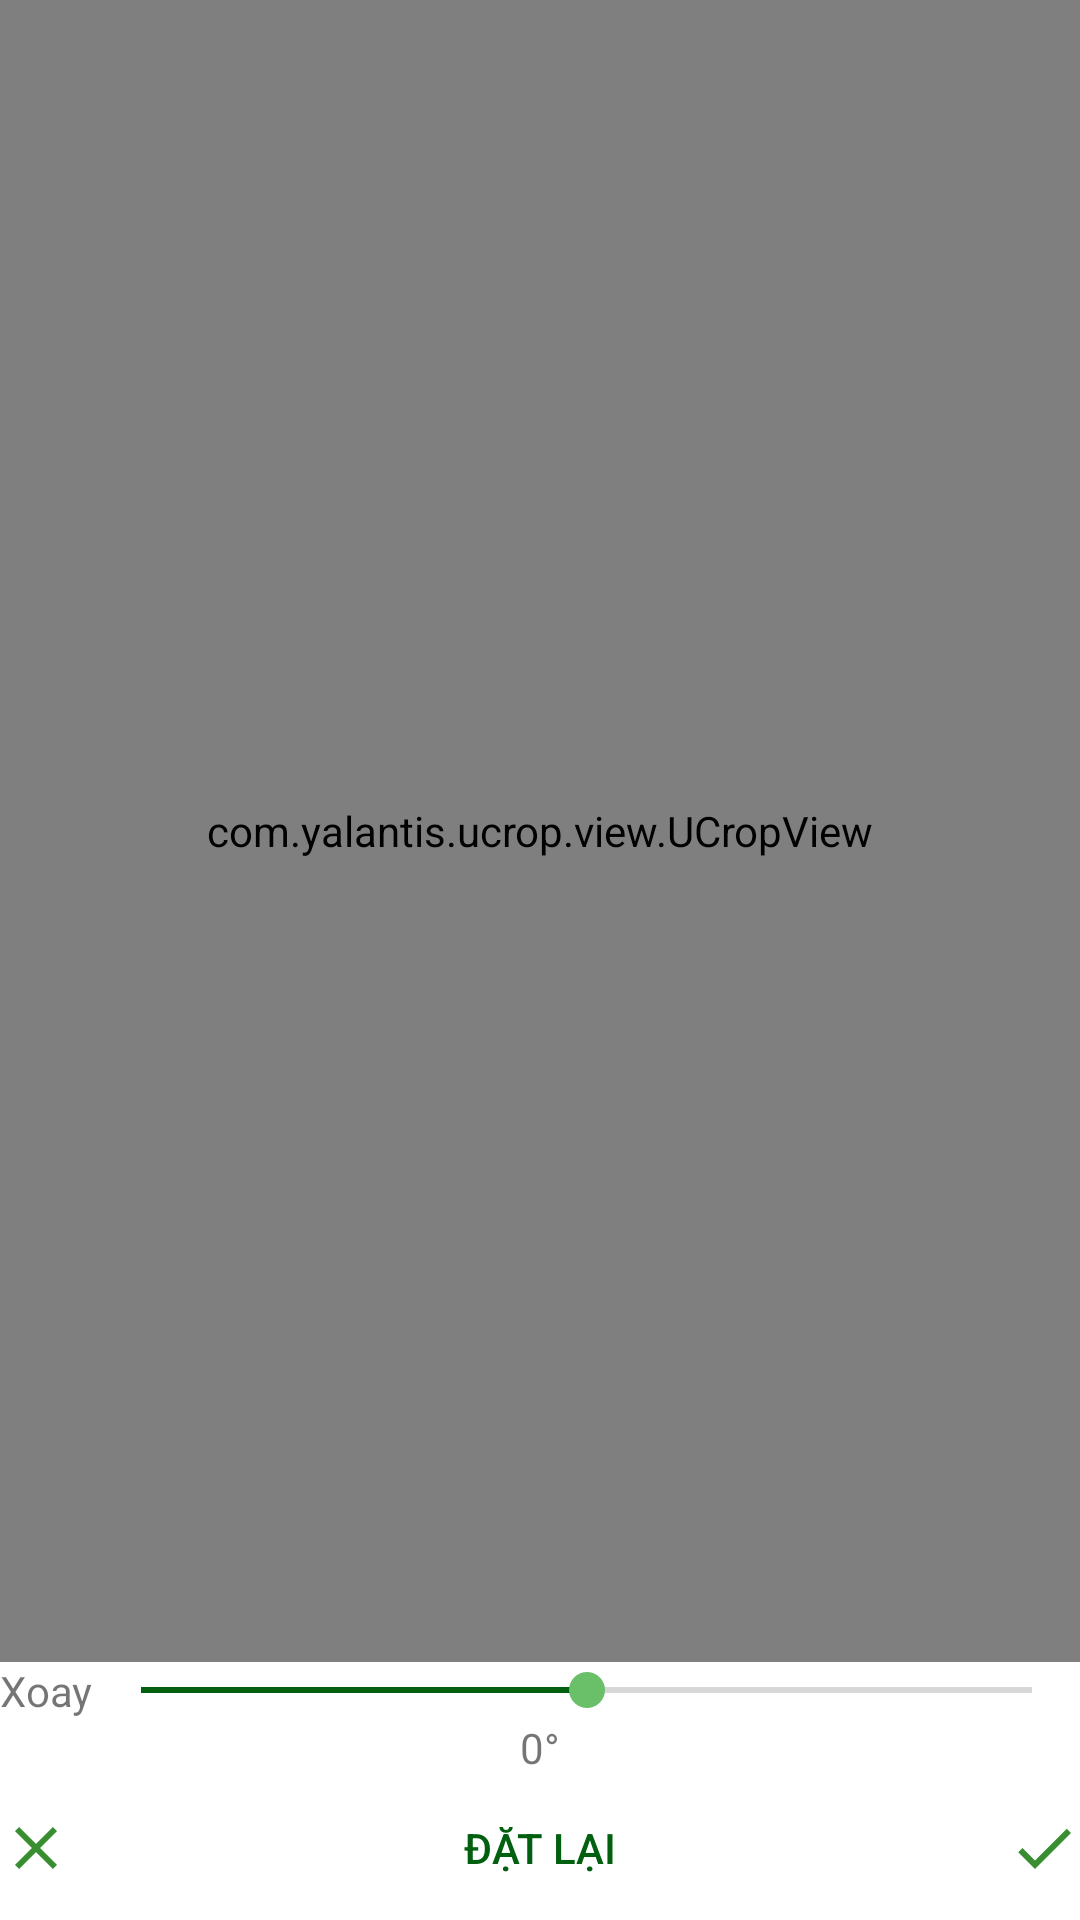

Locate icon controls on the screen. Image size 1080w x 1920h, boxes as (x1, y1, x2, y2).
cancel: (15, 1827, 57, 1869)
